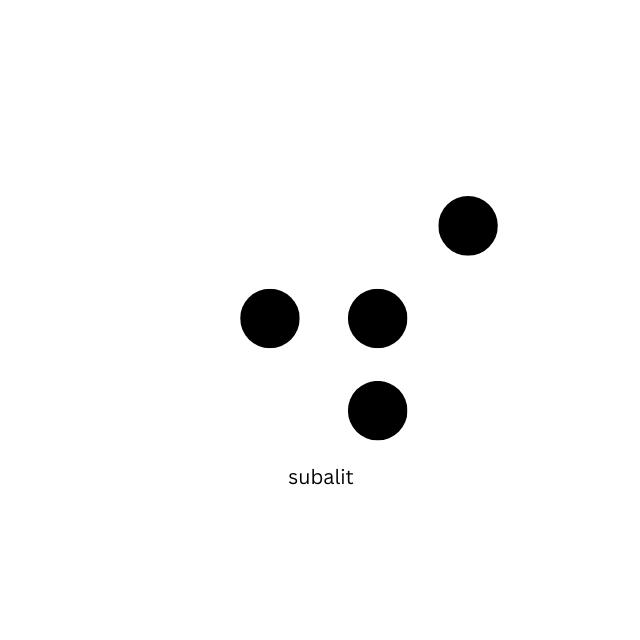dot_5: (147, 193, 302, 443)
two_cell_alphabet_subalit: (345, 193, 500, 443)
